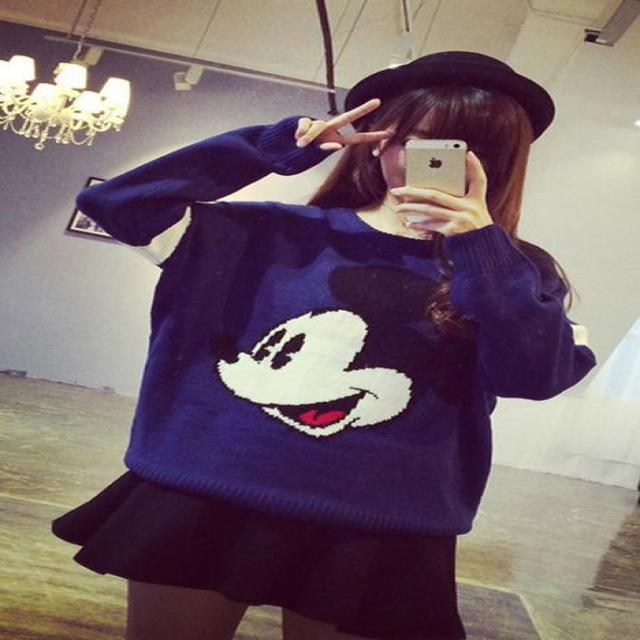long-sleeve-dress: (82, 111, 610, 550)
